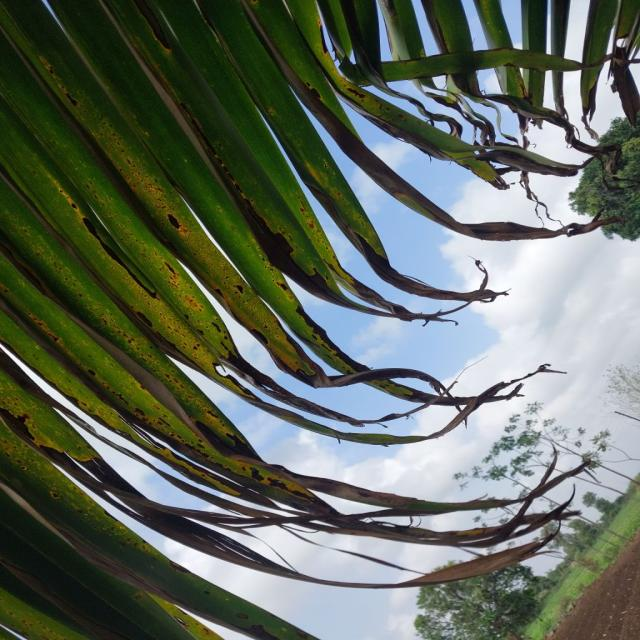leaf rot: (0, 12, 623, 640)
